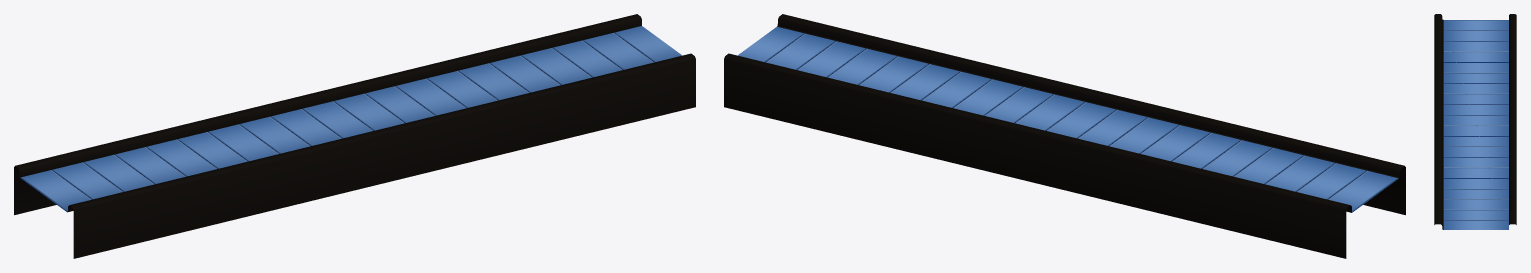
The model's file is conveyor.fbx.
The picture shows the model from 3 angles, left to right: view 1: azimuth 30°, elevation 25°; view 2: azimuth 150°, elevation 25°; view 3: azimuth 270°, elevation 25°; orthographic projection. The views are drawn at different scales.
Visible parts, largest first — view 1: conveyor; view 2: conveyor; view 3: conveyor.
Part boxes in pixels (x1,y1,x2,y2): conveyor: (14, 14, 695, 258); conveyor: (724, 14, 1405, 258); conveyor: (1434, 14, 1516, 229).
Size of the model in its own units: 726 by 56.13 by 121.
